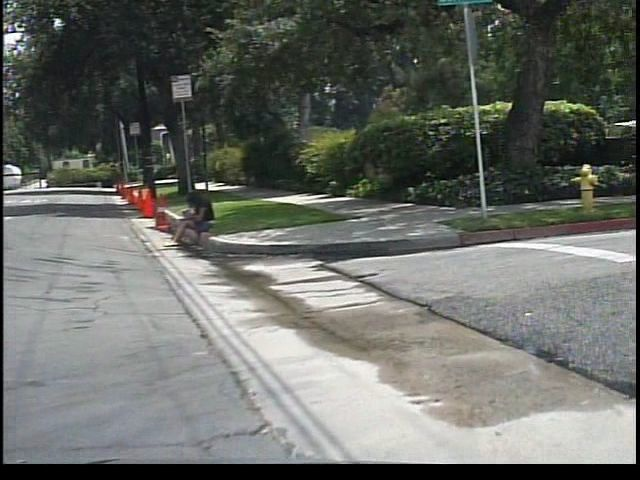person: (168, 189, 226, 248)
